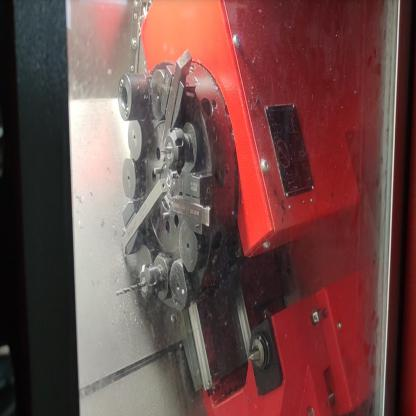bit: (117, 173, 170, 267), (156, 43, 201, 148), (170, 169, 217, 242)
